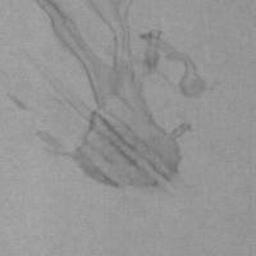Water spot: (33, 0, 206, 195)
